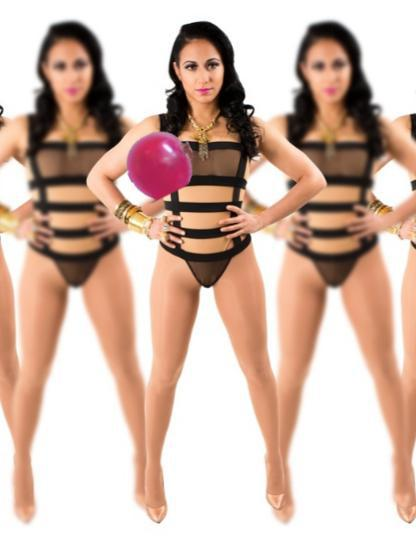Redcurrant: (126, 129, 196, 199)
